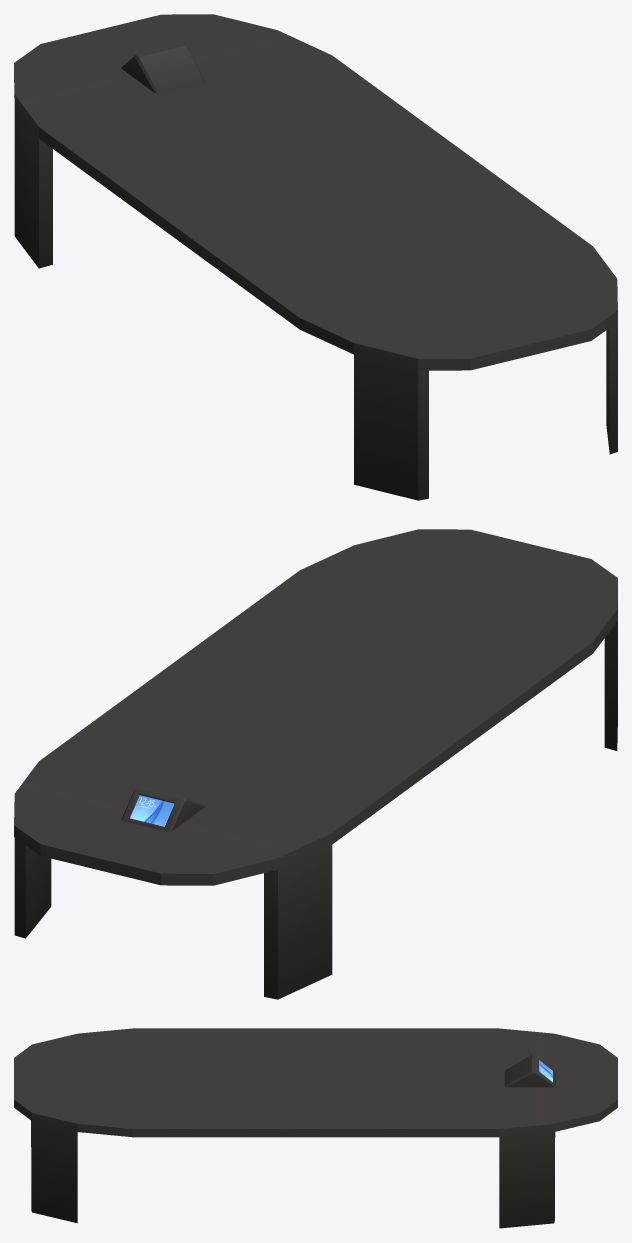
File: Table_Conference_B.fbx
3 views of the same model, one above another, from view 1: azimuth 30°, elevation 25°; view 2: azimuth 150°, elevation 25°; view 3: azimuth 270°, elevation 25° (orthographic). The views are drawn at different scales.
Visible parts, largest first — view 1: Table_Conference_B; view 2: Table_Conference_B; view 3: Table_Conference_B.
Part boxes in pixels (left/top/right/bottom): Table_Conference_B: left=14, top=14, right=617, bottom=500; Table_Conference_B: left=14, top=529, right=617, bottom=999; Table_Conference_B: left=14, top=1028, right=617, bottom=1228.
Bounding box in the file's own units: 159 × 85.12 × 404.
